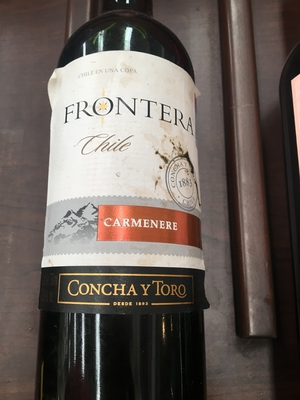frontera carmenere: (42, 4, 212, 400)
